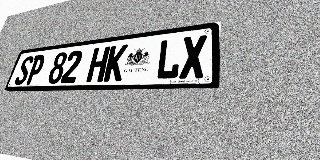2: (60, 50, 84, 83)
8: (46, 51, 69, 84)
H: (86, 46, 110, 82)
K: (103, 44, 128, 82)
L: (155, 38, 182, 80)
P: (25, 54, 47, 85)
S: (13, 56, 35, 85)
X: (179, 34, 207, 79)
